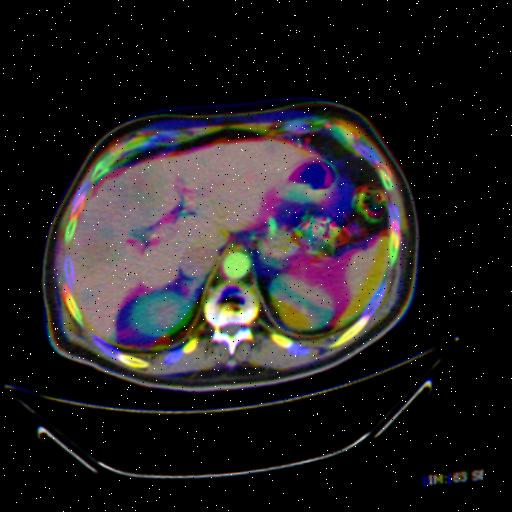Tumor: (106, 164, 171, 236), (80, 226, 129, 274)
